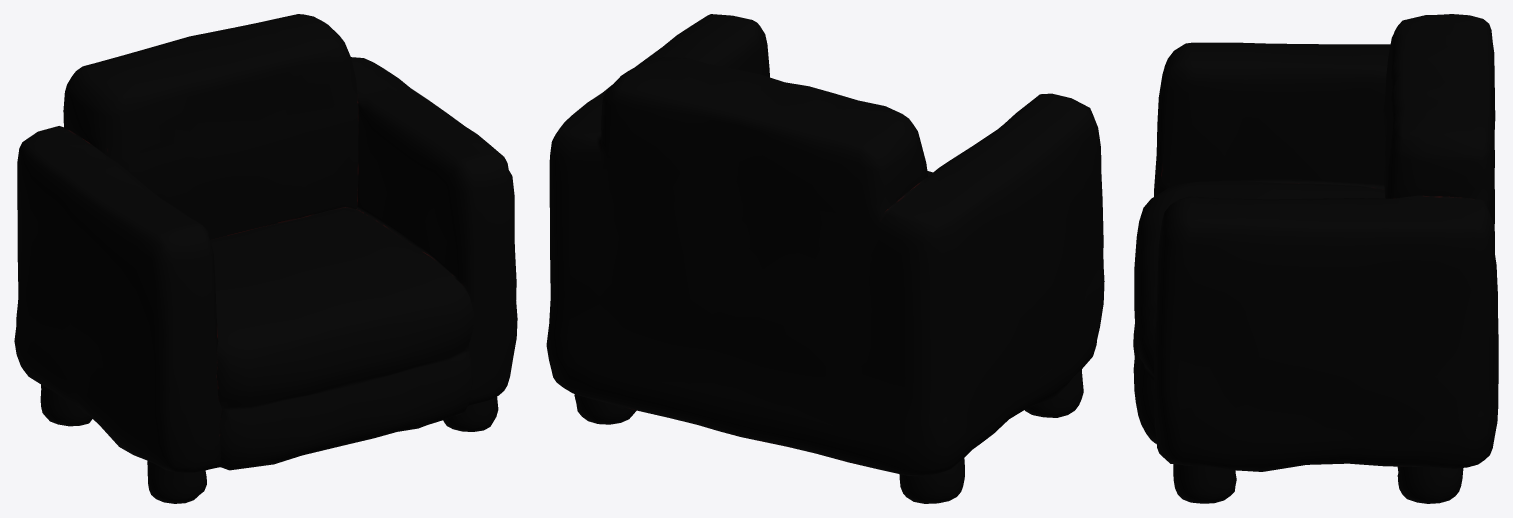
File: fauteuil.fbx
3 views of the same model, side by side, from view 1: azimuth 30°, elevation 25°; view 2: azimuth 150°, elevation 25°; view 3: azimuth 270°, elevation 25° (orthographic). The views are drawn at different scales.
Parts seen in each view (by area): view 1: node_id52; view 2: node_id52; view 3: node_id52.
Boxes of the visible parts, x1,y1,x2,y2 form: node_id52: (14, 14, 517, 503); node_id52: (546, 14, 1104, 503); node_id52: (1133, 14, 1498, 503).
Bounding box in the file's own units: 0.512 × 0.4282 × 0.4084.
Materials: 1 (1 with a texture image).
